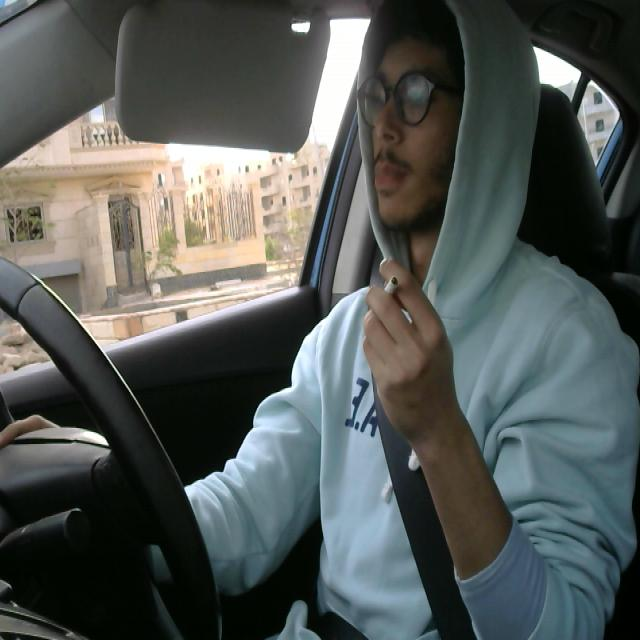smoking: (371, 270, 401, 310)
